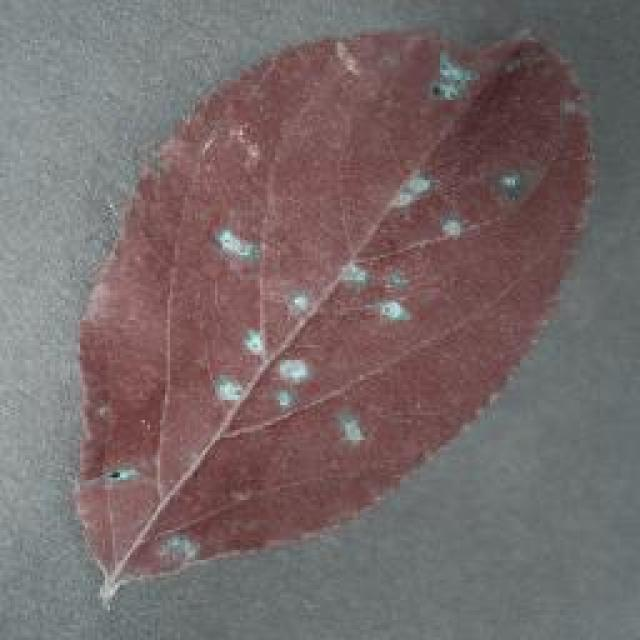apple cedar apple rust: (70, 25, 598, 603)
